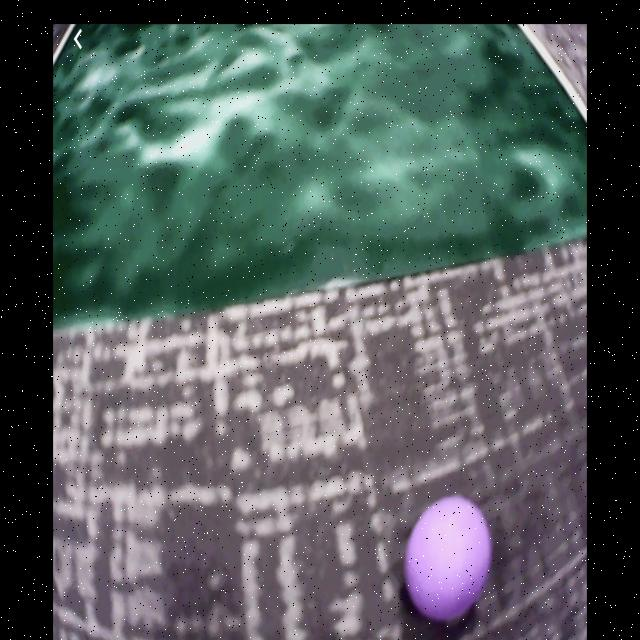ball: (406, 496, 494, 624)
